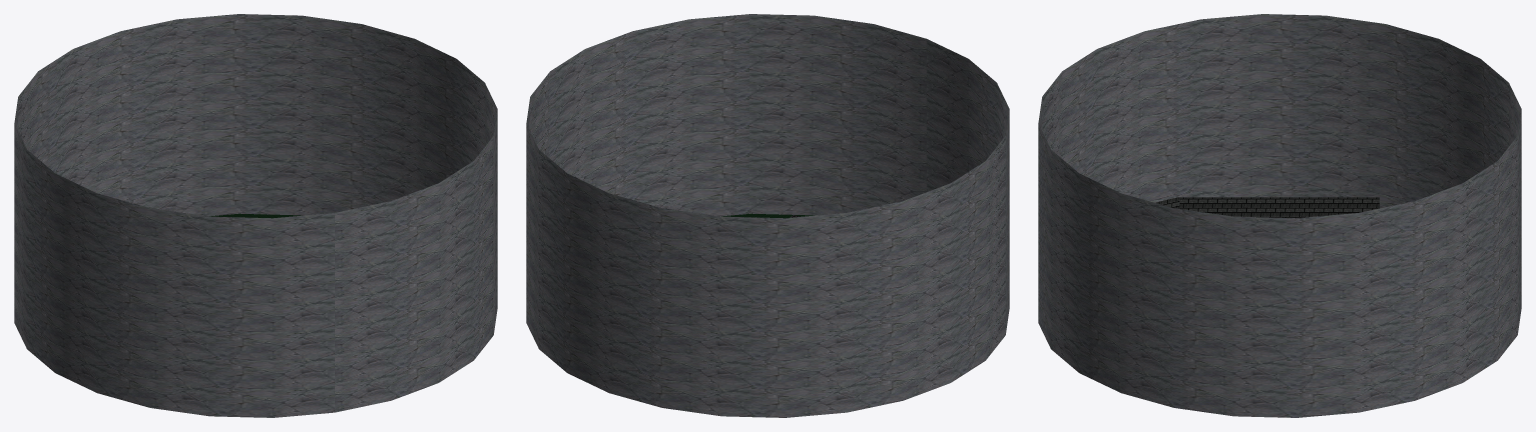
3 views of the same model, side by side, from view 1: azimuth 30°, elevation 25°; view 2: azimuth 150°, elevation 25°; view 3: azimuth 270°, elevation 25° (orthographic).
Visible parts, largest first — view 1: race-SKP--back_wall; view 2: race-SKP--back_wall; view 3: race-SKP--back_wall, race-SKP--BACK_WALL_.
Part boxes in pixels (x1=…): race-SKP--back_wall: x1=14, y1=14, x2=497, y2=417; race-SKP--back_wall: x1=526, y1=14, x2=1009, y2=417; race-SKP--back_wall: x1=1038, y1=14, x2=1521, y2=417; race-SKP--BACK_WALL_: x1=1156, y1=197, x2=1379, y2=218.
Bounding box in the file's own units: 254895 × 116276 × 254895.
17 materials, 17 textured.
